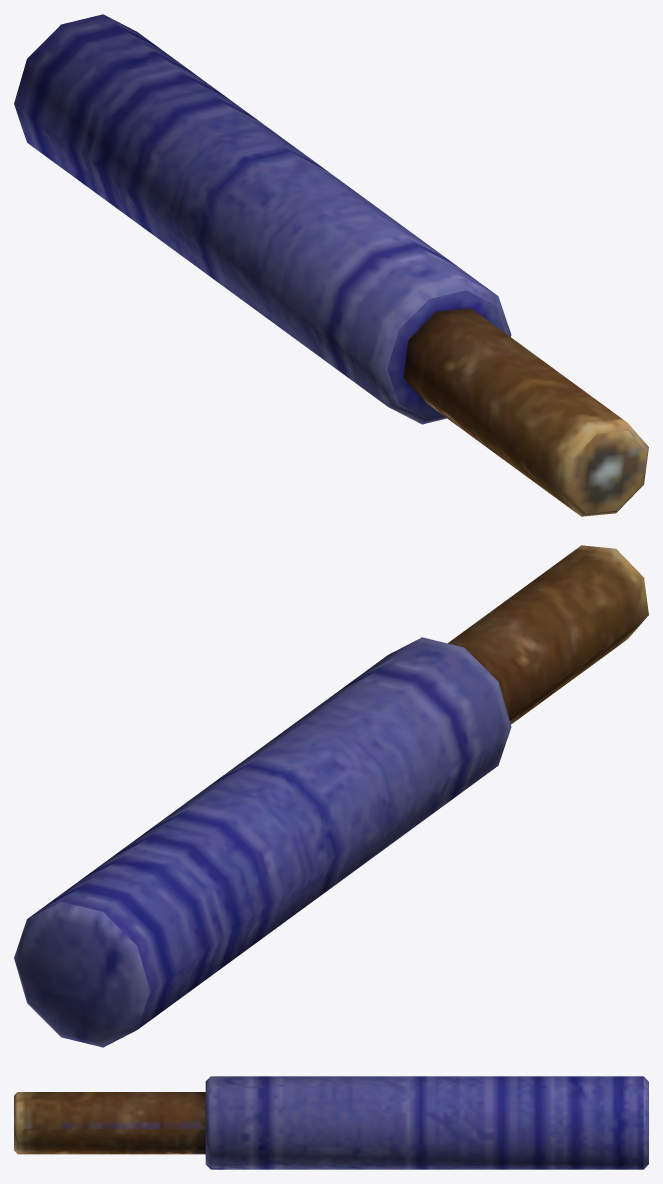
Rendered from guiding_rod01.dae.
3 views of the same model, one above another, from view 1: azimuth 30°, elevation 25°; view 2: azimuth 150°, elevation 25°; view 3: azimuth 270°, elevation 25° (orthographic). The views are drawn at different scales.
Visible parts, largest first — view 1: guiding_rod01; view 2: guiding_rod01; view 3: guiding_rod01.
Boxes of the visible parts, bbox=[...] form: guiding_rod01: bbox=[14, 14, 648, 516]; guiding_rod01: bbox=[14, 545, 648, 1047]; guiding_rod01: bbox=[14, 1076, 648, 1169].
Size of the model in its own units: 0.0743 by 0.0707 by 0.5.
